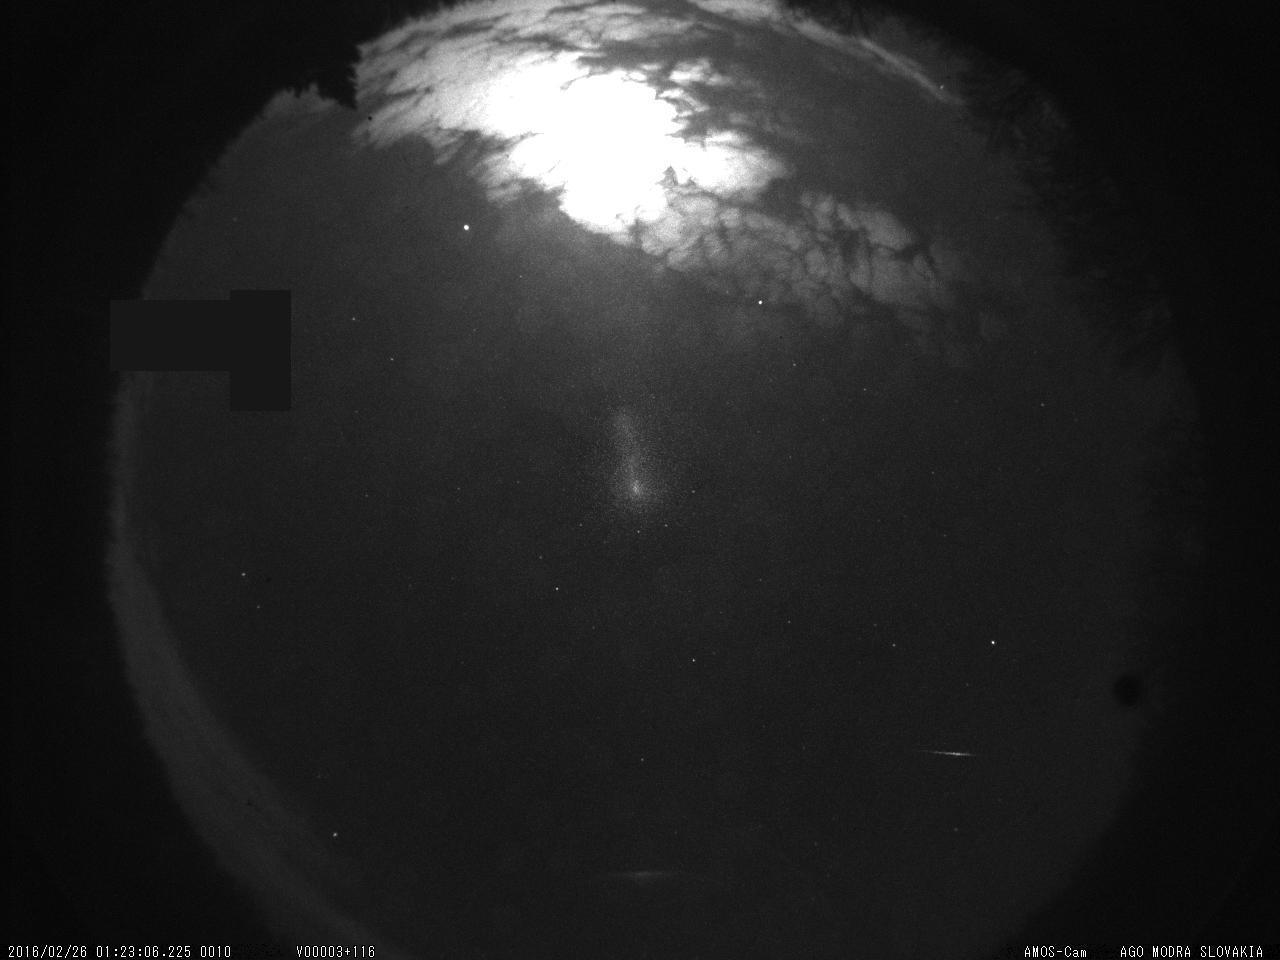meteor: (917, 740, 976, 784)
